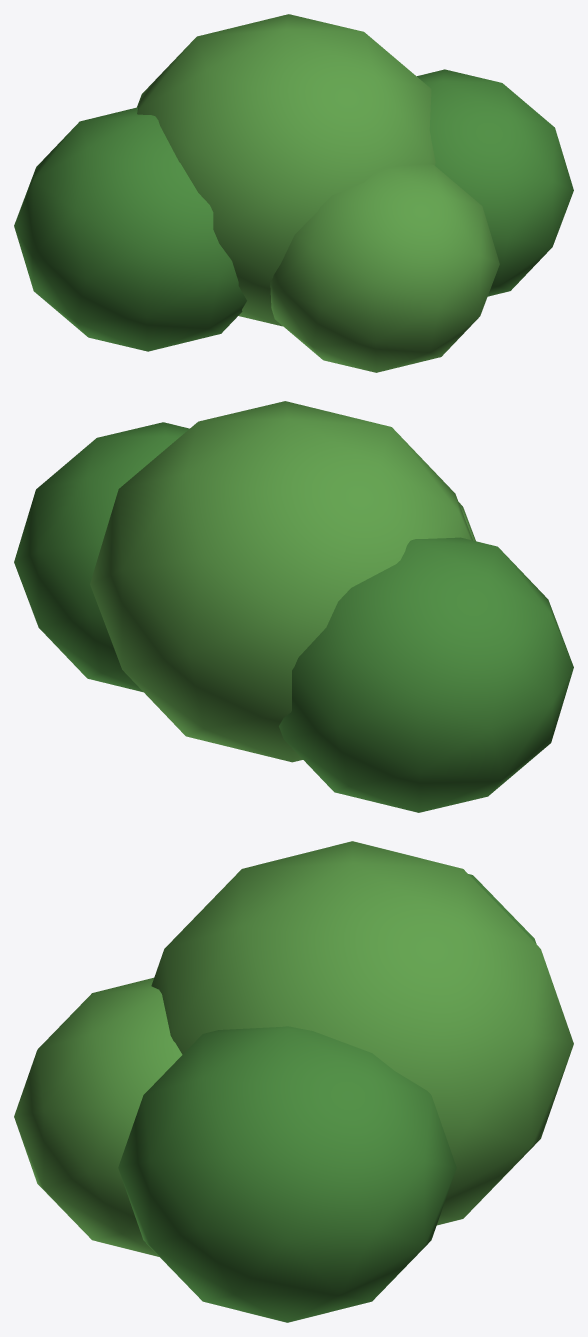
Rendered from bush.glb.
3 views of the same model, one above another, from view 1: azimuth 30°, elevation 25°; view 2: azimuth 150°, elevation 25°; view 3: azimuth 270°, elevation 25° (orthographic). The views are drawn at different scales.
Parts seen in each view (by area): view 1: bush_body; view 2: bush_body; view 3: bush_body.
Boxes of the visible parts, box(x1,y1,x2,y2) form: bush_body: box(14, 14, 573, 372); bush_body: box(14, 401, 573, 812); bush_body: box(14, 841, 573, 1322).
Bounding box in the file's own units: 1.11 × 0.629 × 0.86.
